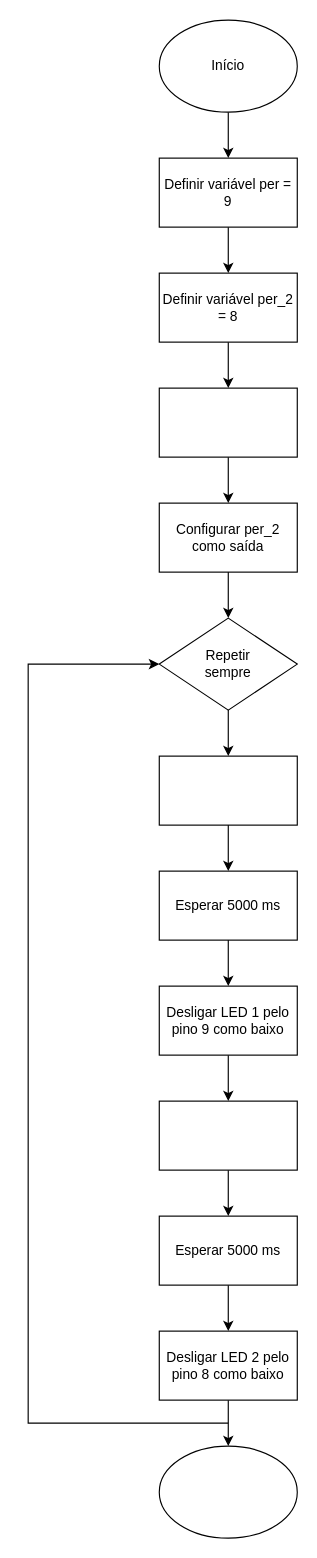
Some shapes in this 317 by 1558 pixel diagram are drawn without their labels. The centre of each missing label's shape, as x and y in pixels:
Configurar per como saída: point (227, 422)
Fim: point (227, 1491)
Ligar LED 1 pelo pino 9 como alto: point (227, 790)
Ligar LED 2 pelo pino 8 como alto: point (227, 1135)
